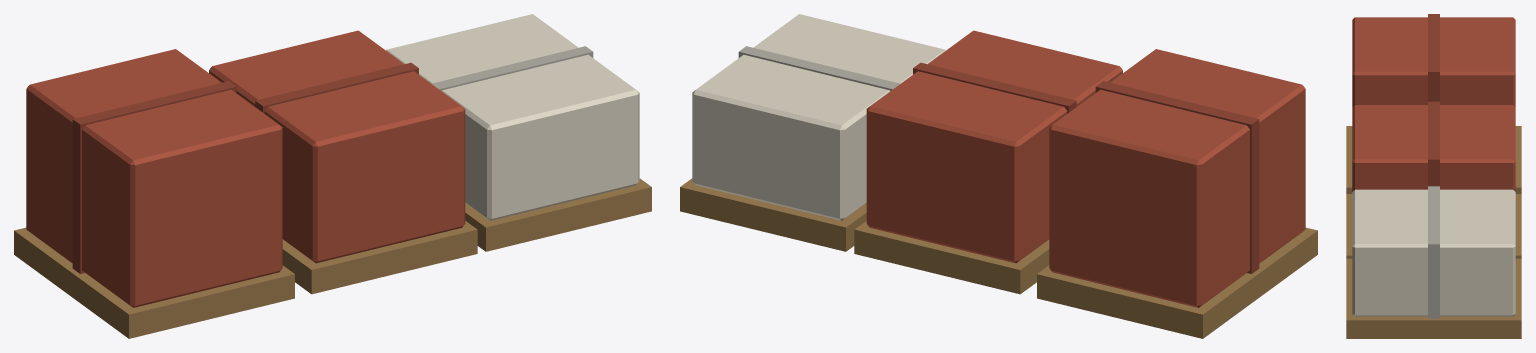
File: con_bricks.glb
3 views of the same model, side by side, from view 1: azimuth 30°, elevation 25°; view 2: azimuth 150°, elevation 25°; view 3: azimuth 270°, elevation 25° (orthographic). The views are drawn at different scales.
Visible parts, largest first — view 1: con_bricks; view 2: con_bricks; view 3: con_bricks.
Boxes of the visible parts, x1,y1,x2,y2 form: con_bricks: (14,14,651,338); con_bricks: (680,14,1317,338); con_bricks: (1346,14,1521,338).
Bounding box in the file's own units: 3.15 × 1 × 1.2.
